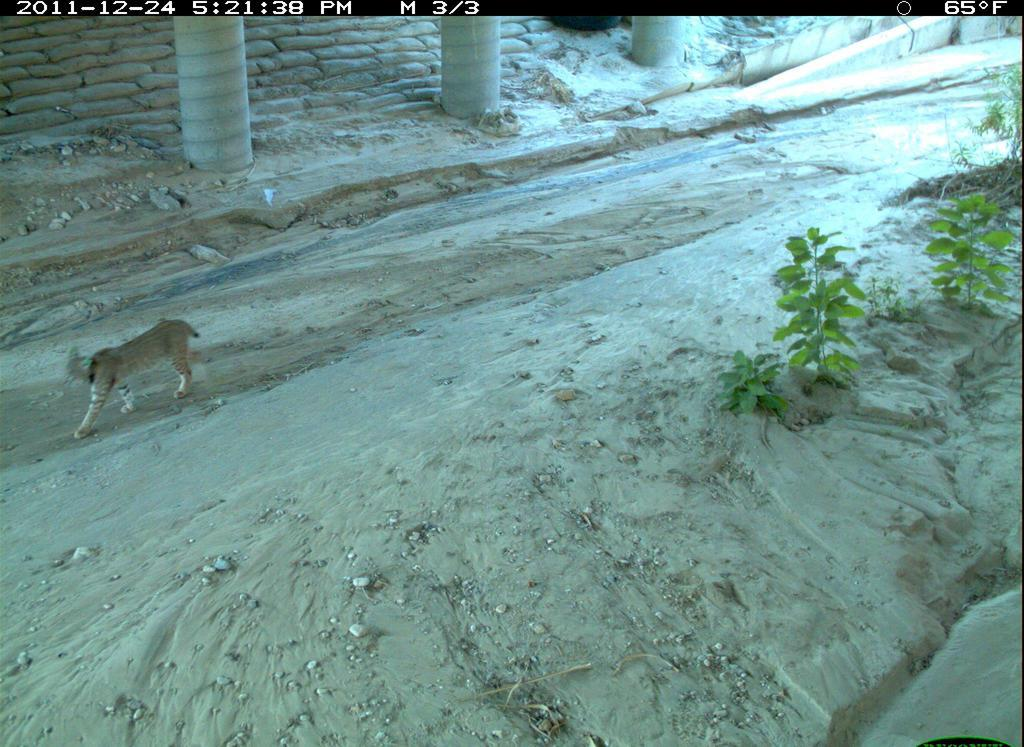bobcat: (53, 313, 209, 433)
